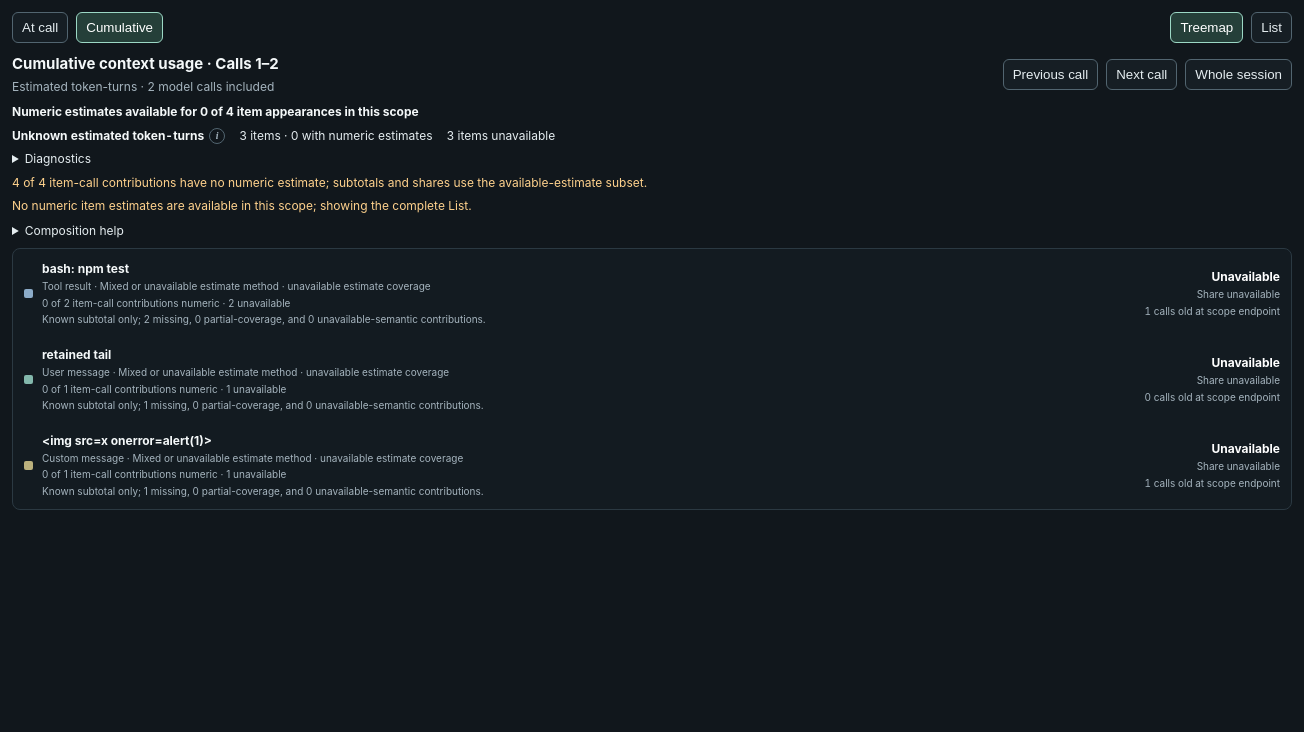
Test: CallComposition › labels all-unavailable totals as Unknown in both scopes
This screenshot has width=1304, height=732.
Expected: the element showing "Unknown estimated token-turns i" is shown, top-left (12, 126), bottom-right (225, 144)
Click the button "At call" at (40, 28), box top-left (12, 12), bottom-right (68, 43)
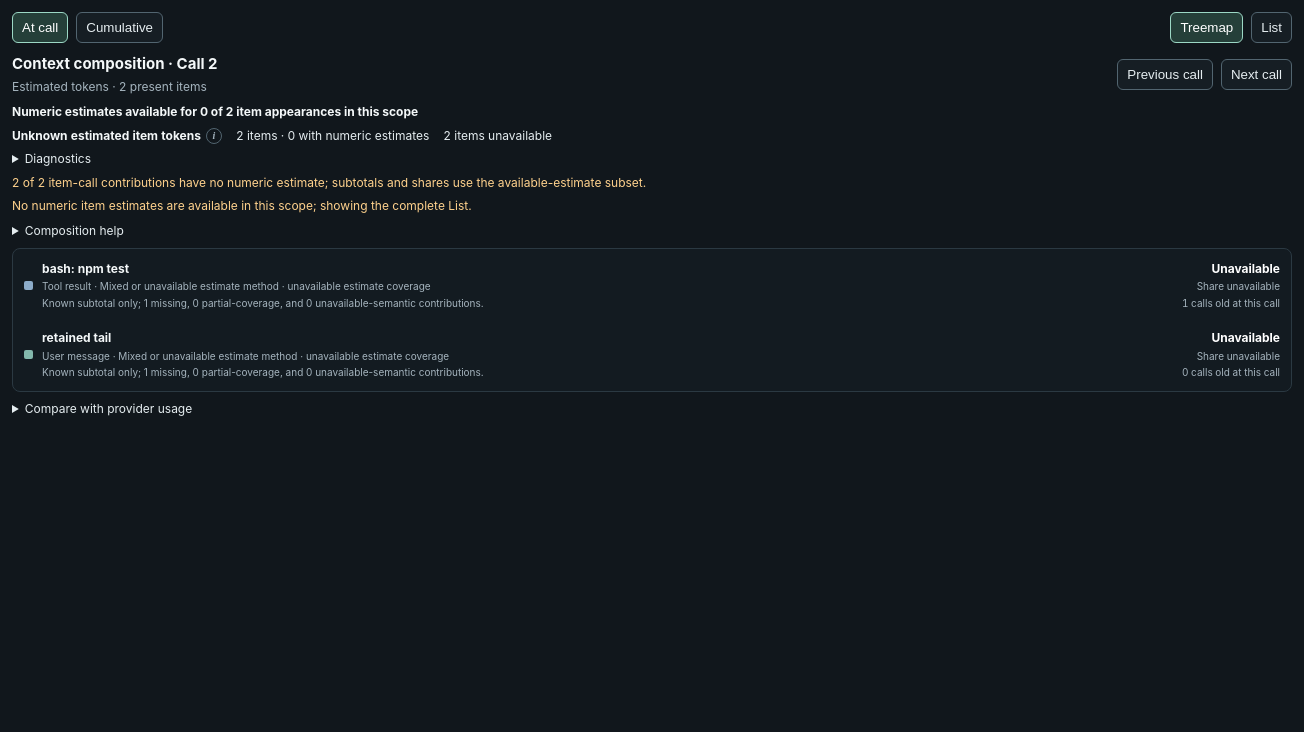
Result: the element showing "Unknown estimated item tokens i" is shown at top-left (12, 126), bottom-right (222, 144)
